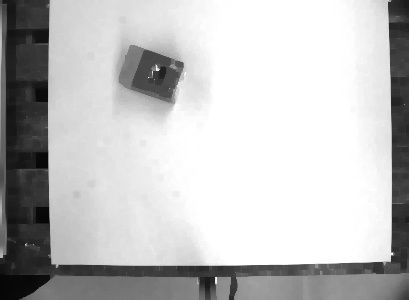b4: (115, 43, 190, 106)
